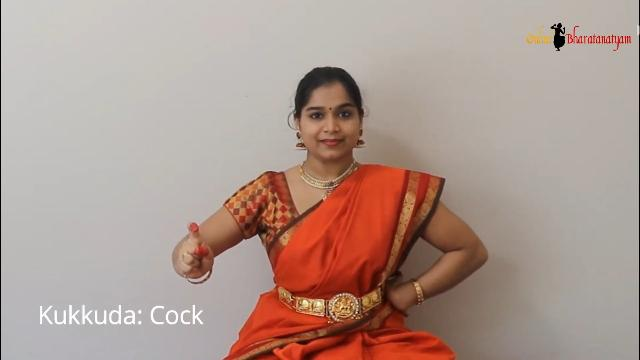tamrachud: (164, 209, 242, 297)
